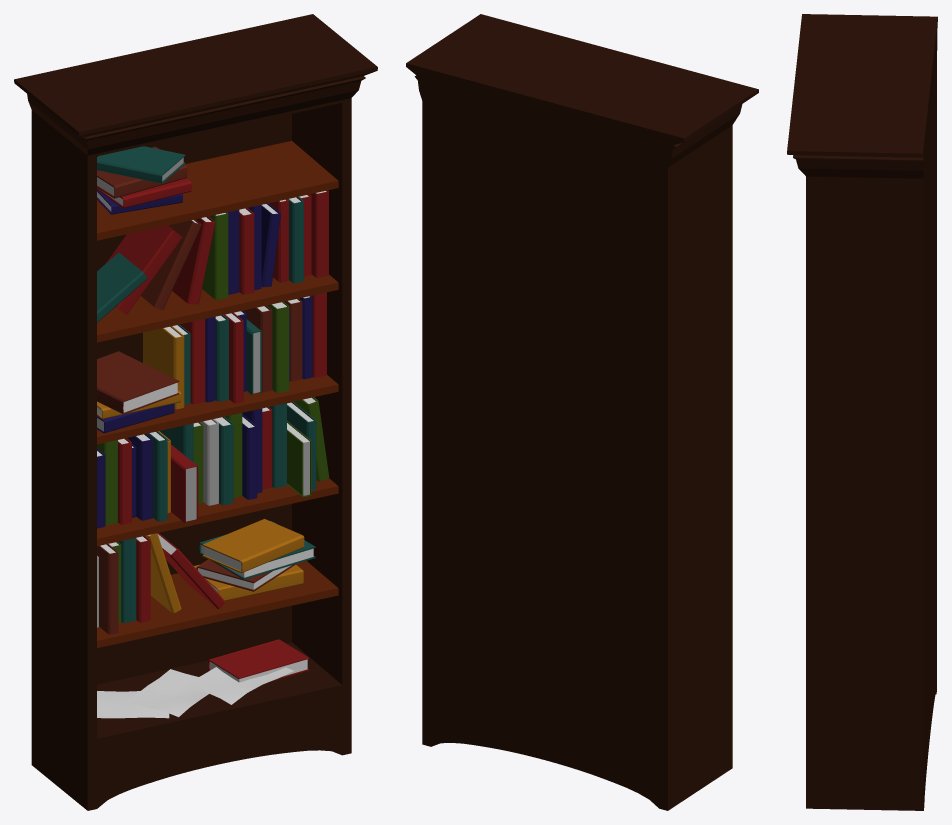
Rendered from bookshelf.fbx.
3 views of the same model, side by side, from view 1: azimuth 30°, elevation 25°; view 2: azimuth 150°, elevation 25°; view 3: azimuth 270°, elevation 25° (orthographic). The views are drawn at different scales.
Parts seen in each view (by area): view 1: Old_Dusty_Bookshelf; view 2: Old_Dusty_Bookshelf; view 3: Old_Dusty_Bookshelf.
Boxes of the visible parts, x1=… form: Old_Dusty_Bookshelf: x1=14, y1=14, x2=377, y2=810; Old_Dusty_Bookshelf: x1=406, y1=14, x2=758, y2=810; Old_Dusty_Bookshelf: x1=787, y1=14, x2=937, y2=810.
Bounding box in the file's own units: 93.68 × 208 × 42.74.
